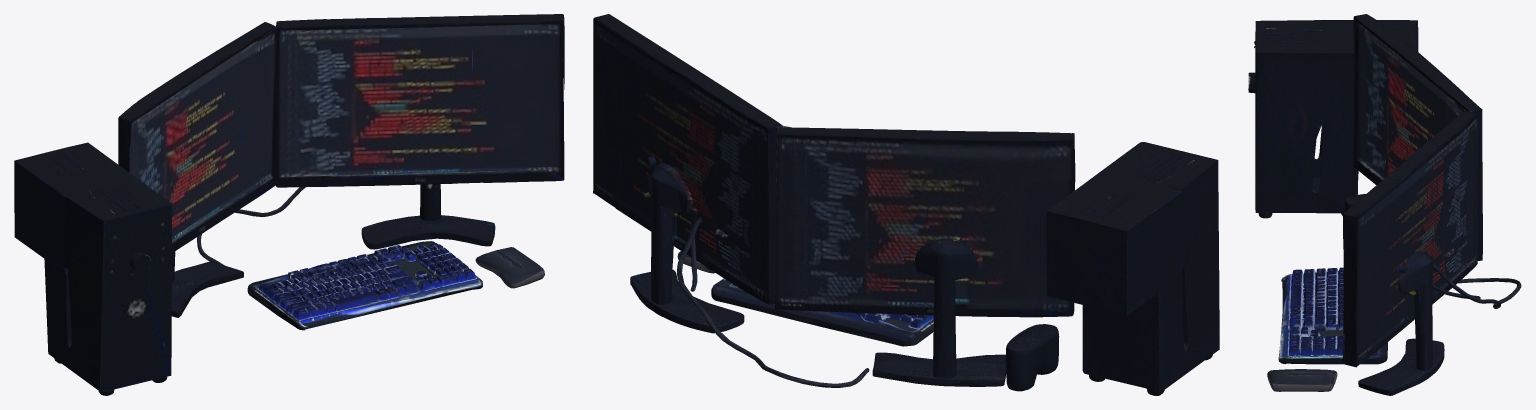
Rendered from ws_backend.glb.
The picture shows the model from 3 angles, left to right: view 1: azimuth 30°, elevation 25°; view 2: azimuth 150°, elevation 25°; view 3: azimuth 270°, elevation 25°; orthographic projection. The views are drawn at different scales.
Bounding box in the file's own units: 1.9 × 0.7784 × 0.9212.
Materials: 1 (1 with a texture image).
